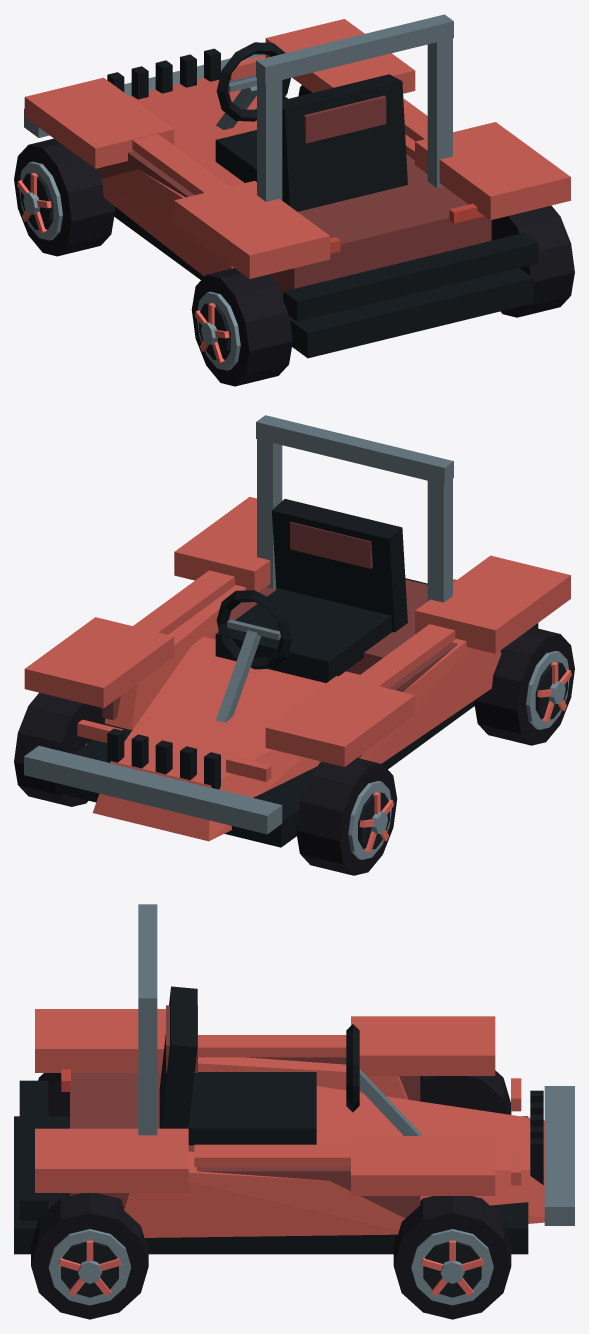
The model's file is kart.glb.
3 renders of one model, top to bottom at view 1: azimuth 30°, elevation 25°; view 2: azimuth 150°, elevation 25°; view 3: azimuth 270°, elevation 25°, orthographic. The views are drawn at different scales.
Visible parts, largest first — view 1: chassis, wheel-rear-left, wheel-front-left, wheel-rear-right; view 2: chassis, wheel-front-left, wheel-rear-left, wheel-front-right; view 3: chassis, wheel-front-right, wheel-rear-right, wheel-front-left, wheel-rear-left.
Part boxes in pixels (x1,y1,x2,y2): chassis: [24, 14, 570, 358]; wheel-rear-left: [191, 268, 292, 386]; wheel-front-left: [14, 138, 114, 256]; wheel-rear-right: [491, 205, 574, 317]; chassis: [24, 415, 570, 847]; wheel-front-left: [296, 758, 397, 875]; wheel-rear-left: [474, 627, 574, 745]; wheel-front-right: [14, 692, 112, 806]; chassis: [14, 904, 574, 1254]; wheel-front-right: [393, 1196, 511, 1319]; wheel-rear-right: [31, 1193, 148, 1319]; wheel-front-left: [420, 1070, 511, 1114]; wheel-rear-left: [38, 1073, 69, 1116].
Bounding box in the file's own units: 2.19 × 1.67 × 2.96.
